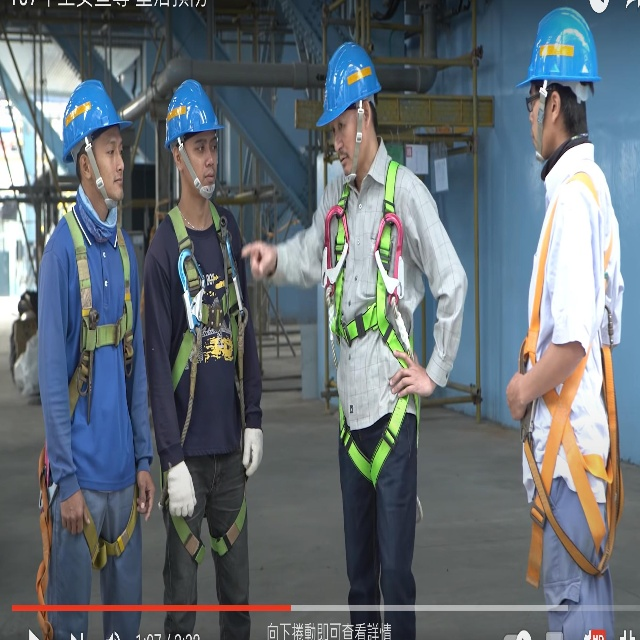Arnes_seguridad: (518, 164, 623, 593), (39, 199, 141, 564), (153, 199, 251, 566), (327, 158, 421, 494)
